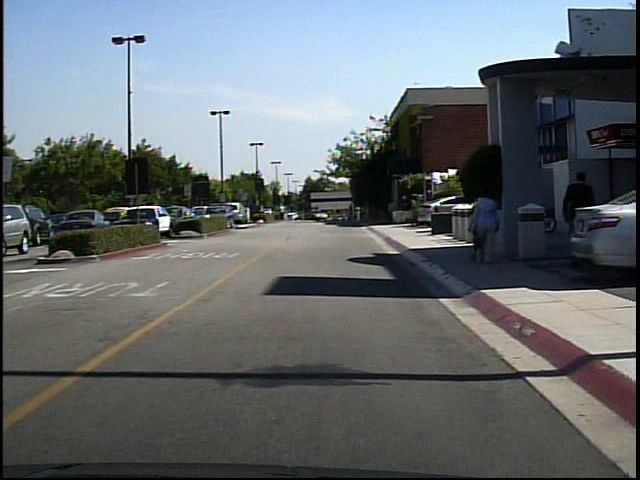person: (560, 162, 609, 276), (472, 185, 504, 266), (477, 189, 500, 264), (353, 204, 367, 228), (284, 201, 295, 225)
